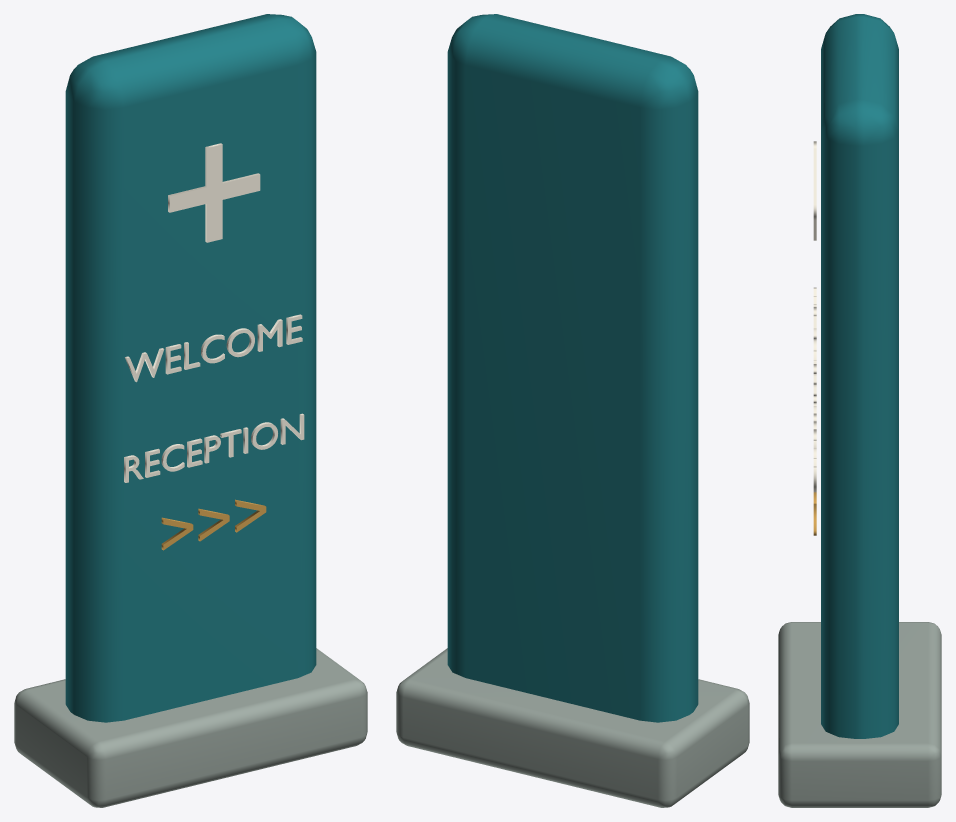
File: sign.glb
The picture shows the model from 3 angles, left to right: view 1: azimuth 30°, elevation 25°; view 2: azimuth 150°, elevation 25°; view 3: azimuth 270°, elevation 25°; orthographic projection. The views are drawn at different scales.
Parts seen in each view (by area): view 1: Wayfinding totem, Wayfinding footing, Medical emblem, Entry arrow, Welcome, Entry arrow 2; view 2: Wayfinding totem, Wayfinding footing; view 3: Wayfinding totem, Wayfinding footing, Welcome, Medical emblem, Entry arrow.
Part boxes in pixels (left/top/right/bottom): Wayfinding totem: left=65, top=14, right=316, bottom=722; Wayfinding footing: left=14, top=648, right=367, bottom=807; Medical emblem: left=168, top=143, right=260, bottom=242; Entry arrow: left=124, top=413, right=304, bottom=482; Welcome: left=125, top=314, right=302, bottom=382; Entry arrow 2: left=161, top=499, right=266, bottom=550; Wayfinding totem: left=447, top=14, right=698, bottom=722; Wayfinding footing: left=396, top=648, right=749, bottom=807; Wayfinding totem: left=821, top=14, right=898, bottom=738; Wayfinding footing: left=778, top=622, right=941, bottom=807; Welcome: left=813, top=287, right=816, bottom=396; Medical emblem: left=813, top=141, right=816, bottom=240; Entry arrow: left=813, top=396, right=816, bottom=492.
Bounding box in the file's own units: 0.8 × 1.95 × 0.42.
